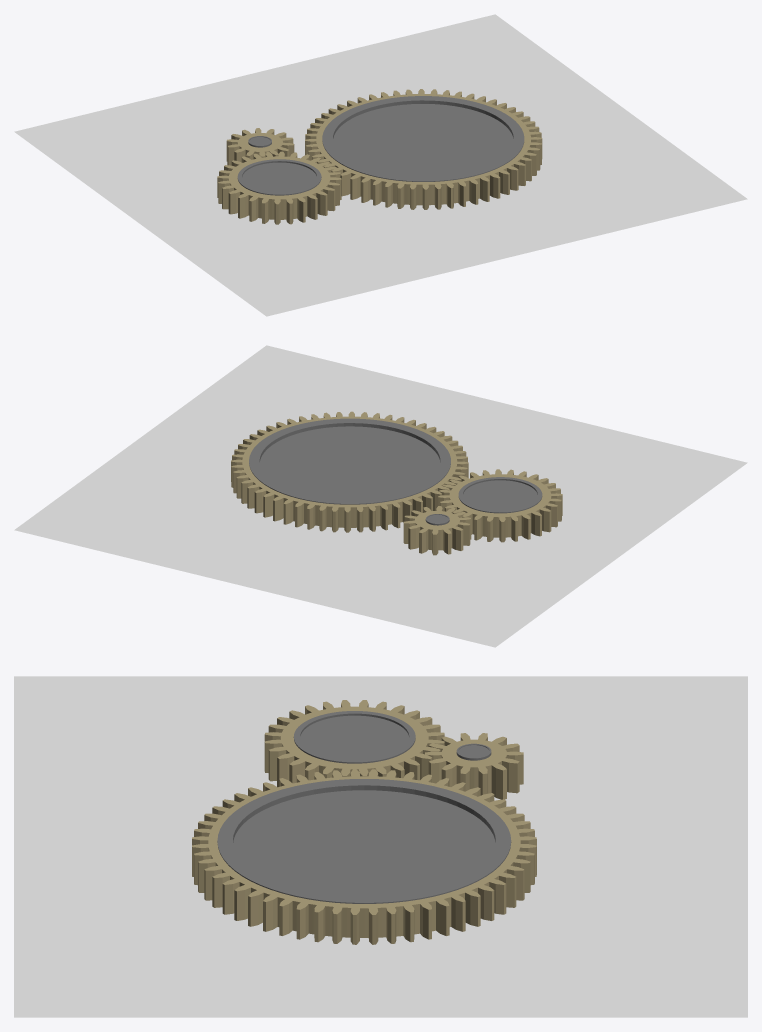
The model's file is gears.glb.
3 views of the same model, one above another, from view 1: azimuth 30°, elevation 25°; view 2: azimuth 150°, elevation 25°; view 3: azimuth 270°, elevation 25° (orthographic). The views are drawn at different scales.
Visible parts, largest first — view 1: Plane, Circle.002, Gear.002, Gear, Circle, Gear.001; view 2: Plane, Circle.002, Gear.002, Gear, Gear.001, Circle; view 3: Plane, Circle.002, Gear.002, Gear, Circle, Gear.001.
Boxes of the visible parts, x1,y1,x2,y2 form: Plane: (14,14,747,316); Circle.002: (322,96,524,181); Gear.002: (305,89,542,209); Gear: (217,151,341,224); Circle: (237,159,321,195); Gear.001: (226,128,294,165); Plane: (14,345,747,647); Circle.002: (249,418,450,504); Gear.002: (231,411,468,532); Gear: (438,469,562,542); Gear.001: (403,506,471,555); Circle: (458,477,542,513); Plane: (14,676,747,1017); Circle.002: (217,779,511,903); Gear.002: (192,769,536,944); Gear: (264,700,444,787); Circle: (293,711,415,763); Gear.001: (425,733,523,799).
Size of the model in its own units: 9.83 by 0.4586 by 8.93.
